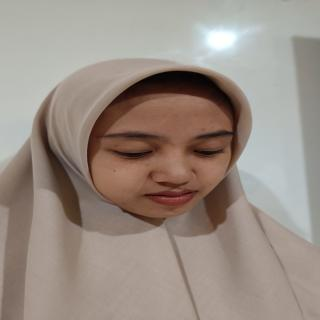Sedih: (84, 77, 244, 230)
